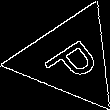P_NE: (35, 28, 103, 88)
